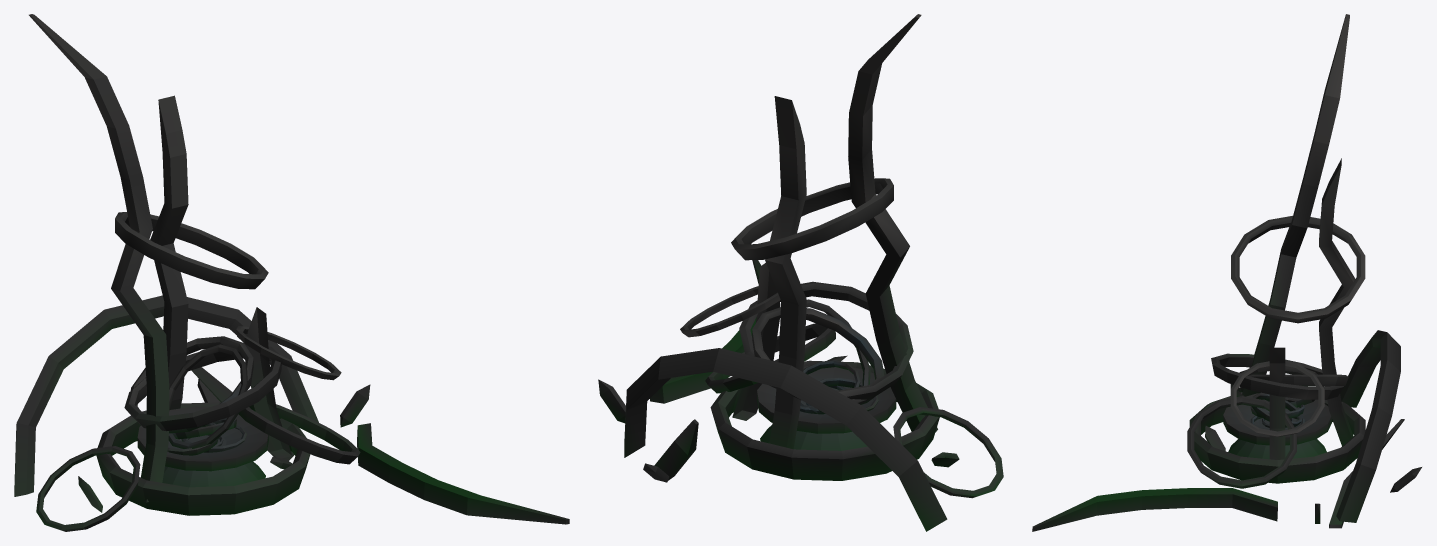
The model's file is RuineDams.fbx.
The picture shows the model from 3 angles, left to right: view 1: azimuth 30°, elevation 25°; view 2: azimuth 150°, elevation 25°; view 3: azimuth 270°, elevation 25°; orthographic projection. The views are drawn at different scales.
Parts seen in each view (by area): view 1: Torus.024; view 2: Torus.024; view 3: Torus.024.
Boxes of the visible parts, x1,y1,x2,y2 form: Torus.024: (14, 14, 569, 531); Torus.024: (598, 14, 1003, 531); Torus.024: (1032, 14, 1421, 531).
Size of the model in its own units: 861 by 1095 by 931.
